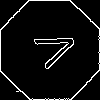V: (25, 25, 80, 74)
